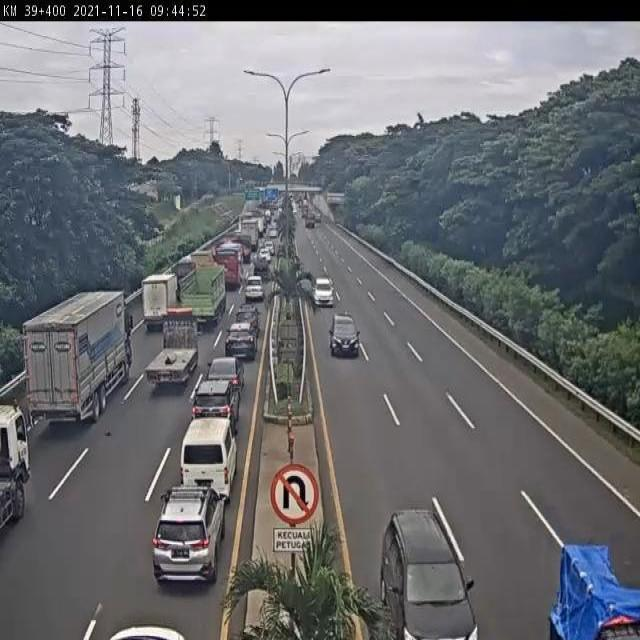Bus: (212, 242, 243, 288)
Car: (379, 509, 477, 638), (152, 483, 228, 586), (192, 376, 242, 429), (206, 354, 246, 391), (328, 312, 360, 358), (225, 322, 258, 361), (235, 302, 262, 332), (312, 277, 334, 306), (244, 275, 264, 302), (253, 256, 269, 275), (258, 247, 271, 262), (265, 241, 275, 256), (268, 226, 278, 238), (314, 214, 322, 224)
Truck: (21, 290, 130, 428), (144, 305, 200, 387), (0, 398, 33, 530), (179, 264, 227, 328), (142, 272, 180, 332), (228, 232, 254, 262), (171, 260, 198, 287), (240, 219, 260, 251), (190, 248, 213, 266), (249, 217, 264, 237), (305, 212, 315, 229), (300, 200, 309, 217)
Van: (178, 414, 239, 498)
